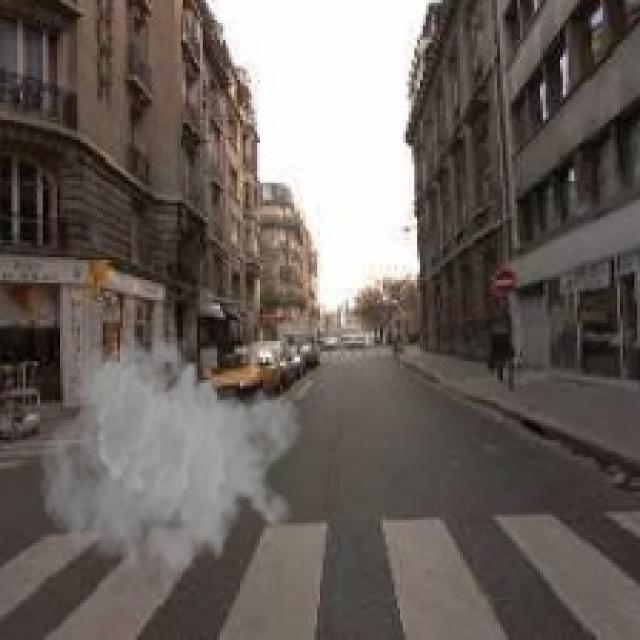smoke: (37, 323, 303, 600)
